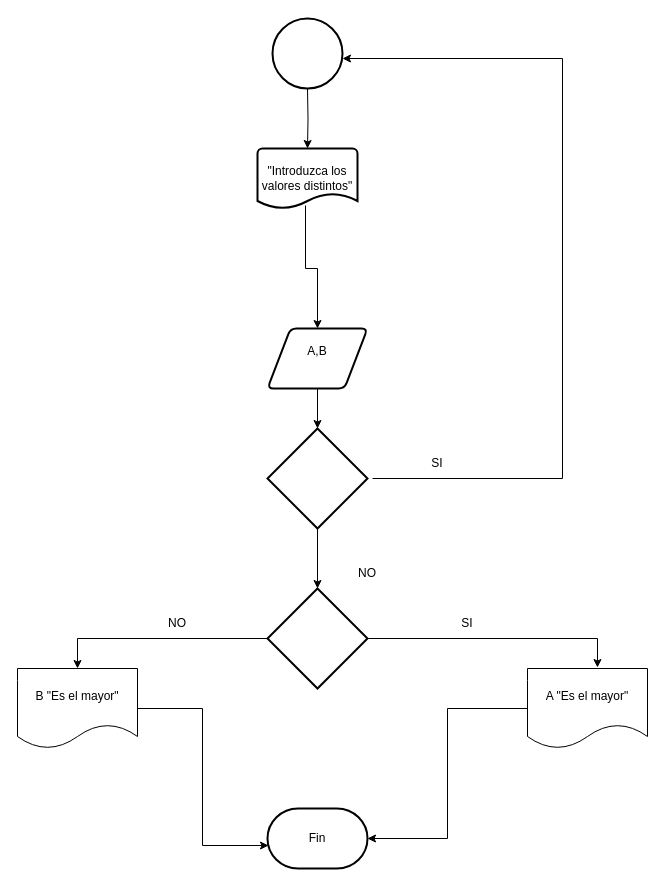
The diagram is 665 pixels wide and 886 high, and some of its shapes have lost their labels. The box of each missing label's shape, as (x1, y1, x2, y2) in pixels:
A = B: (266, 427, 368, 529)
A > B: (266, 587, 368, 689)
Inicio: (271, 17, 343, 89)
